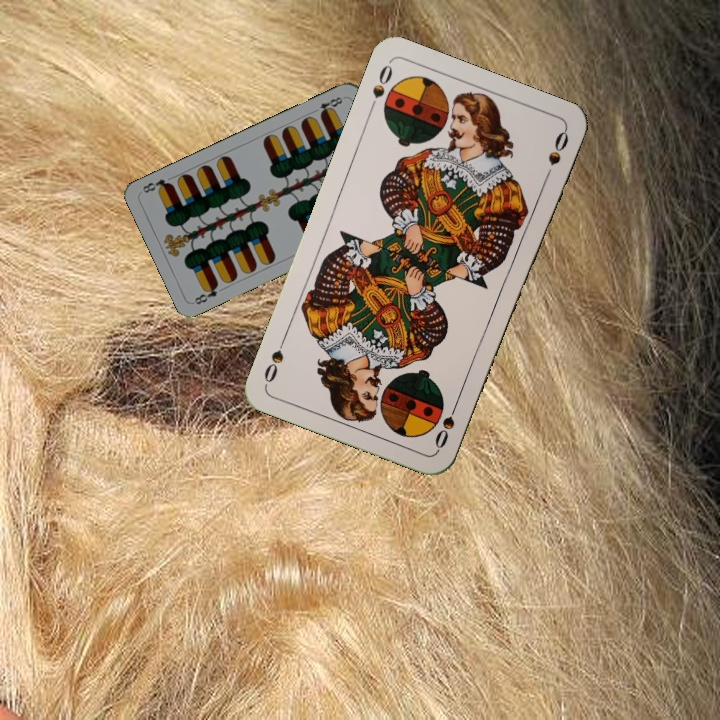E8: (308, 93, 345, 119), (190, 279, 221, 307)
SO: (430, 395, 462, 451), (364, 60, 396, 115)
